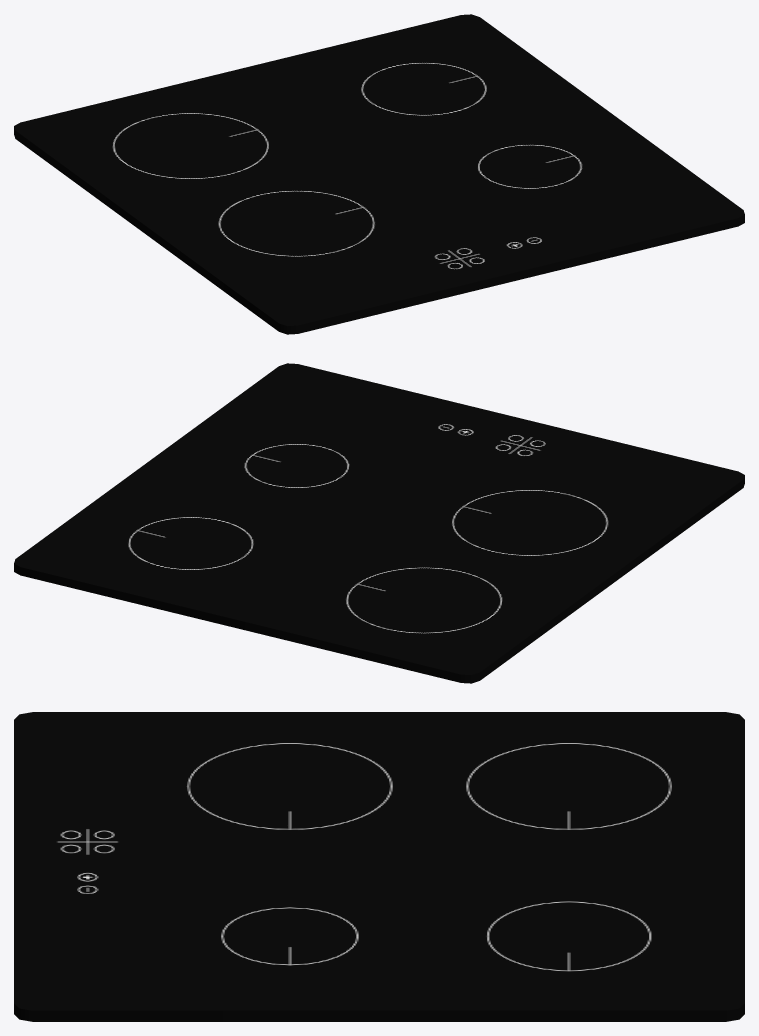
The model's file is Hob.fbx.
The picture shows the model from 3 angles, top to bottom: view 1: azimuth 30°, elevation 25°; view 2: azimuth 150°, elevation 25°; view 3: azimuth 270°, elevation 25°; orthographic projection. The views are drawn at different scales.
Parts seen in each view (by area): view 1: Hob; view 2: Hob; view 3: Hob.
Boxes of the visible parts, x1,y1,x2,y2 form: Hob: (14, 14, 744, 334); Hob: (14, 363, 744, 683); Hob: (14, 712, 744, 1021).
Size of the model in its own units: 60 by 1 by 58.
Materials: 1 (1 with a texture image).
